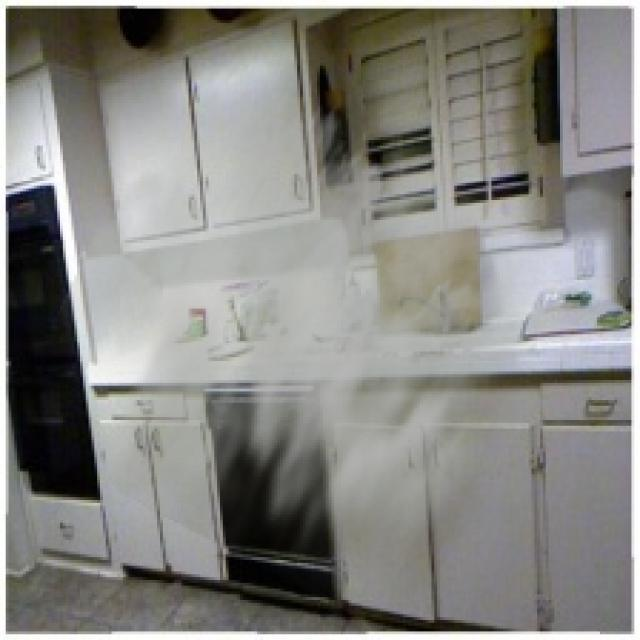Smoke: (42, 68, 558, 638)
